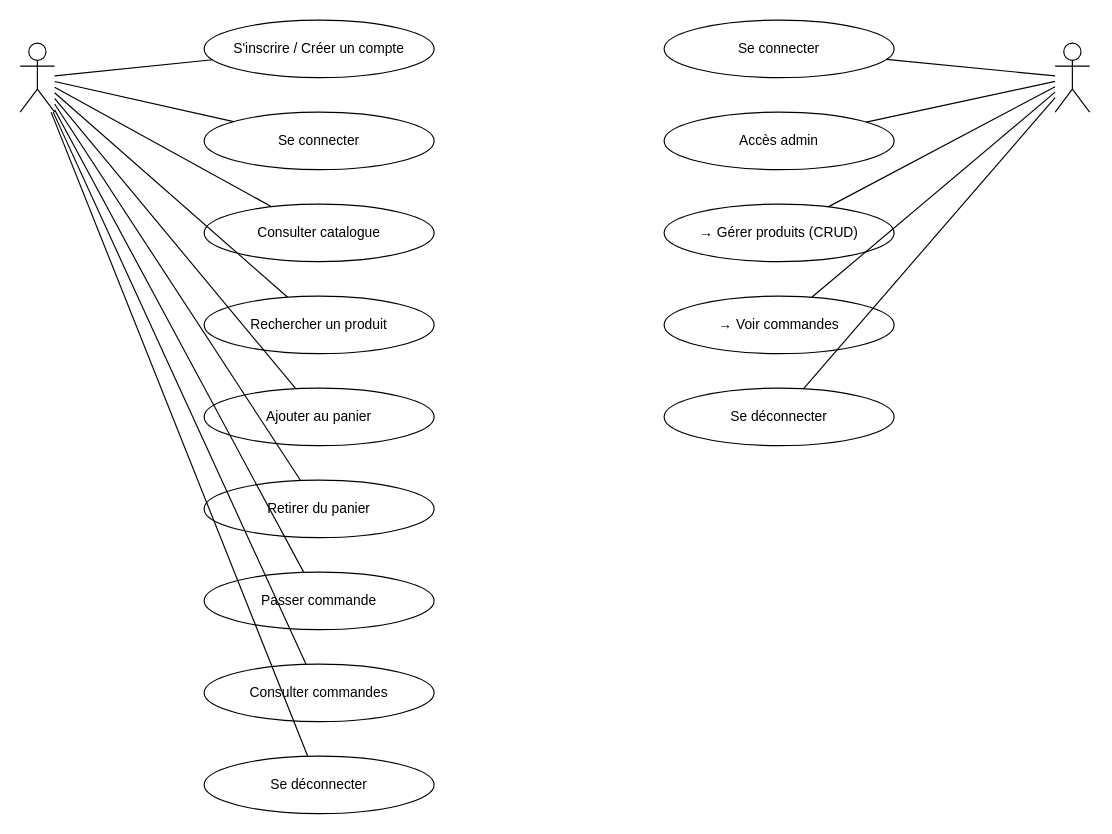
Image size: 1112x834. Some labels were removed from this diagram. Here are the shapes that lost their labels. From the top down, the centre of each, then its label:
At point 37,77: "Client".
At point 1072,77: "Admin".
